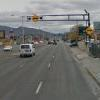Car: (12, 37, 39, 65)
